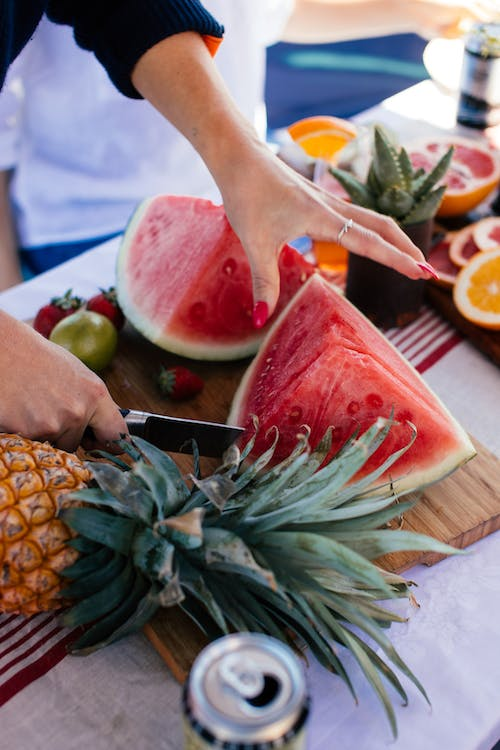knife: (118, 407, 248, 460)
